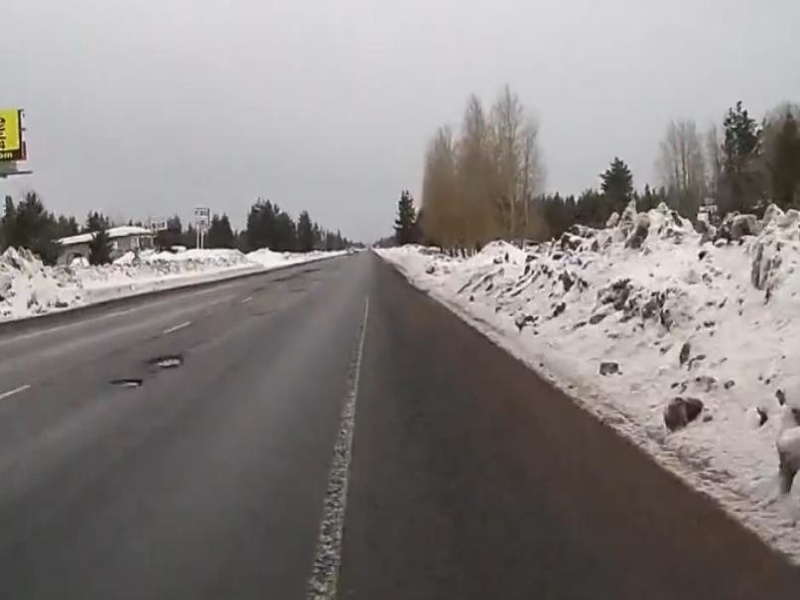pothole: (143, 354, 186, 372), (110, 376, 143, 392)
